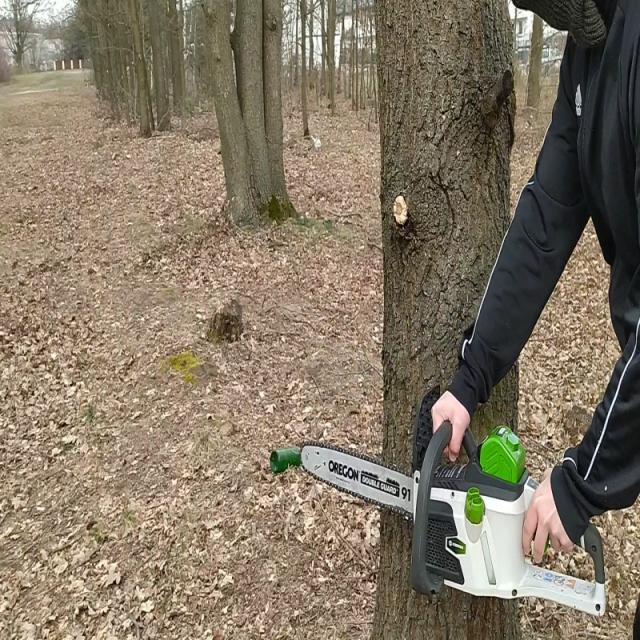Chainsaw: (295, 410, 612, 626)
